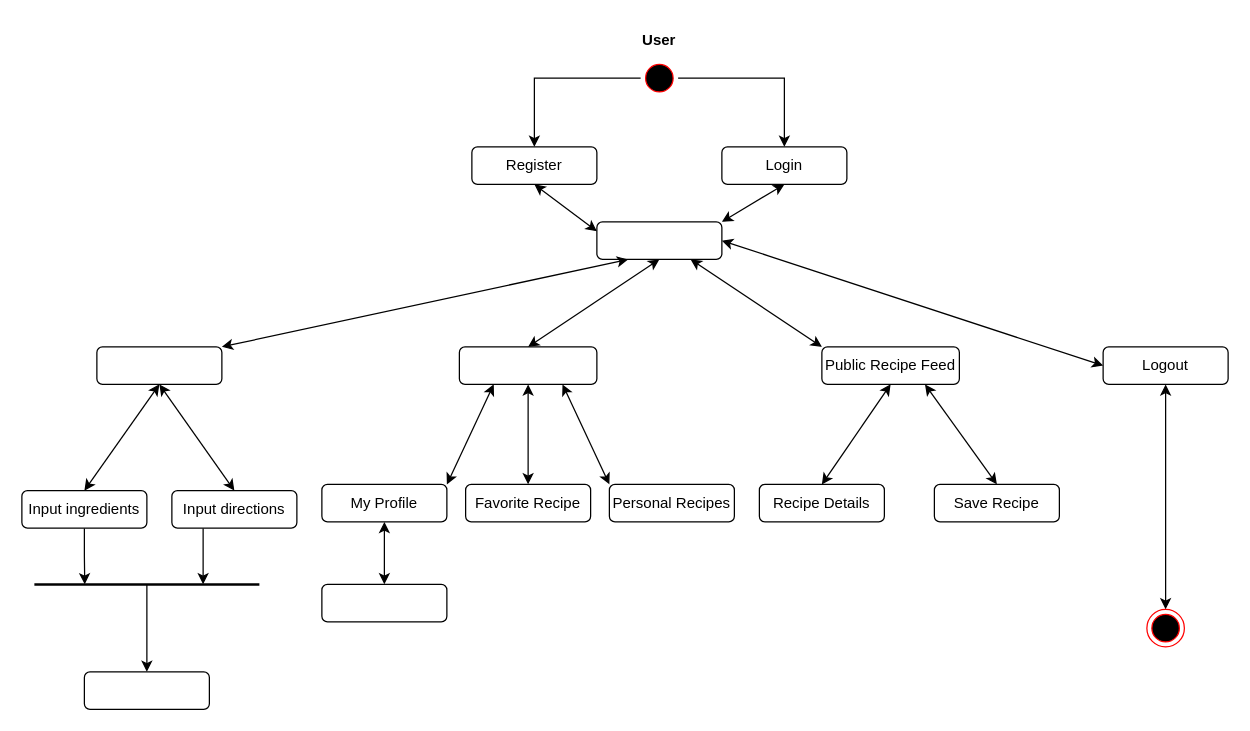
Image size: 1250x731. Some labels were removed from this diagram. Here are the shapes that lost their labels. From the top down, the centre of each, then its label:
At (x=659, y=240): "Home".
At (x=159, y=365): "Add Recipe".
At (x=527, y=365): "Pesonal Cookbook".
At (x=384, y=602): "Edit Profile".
At (x=146, y=690): "Post Recipe".
